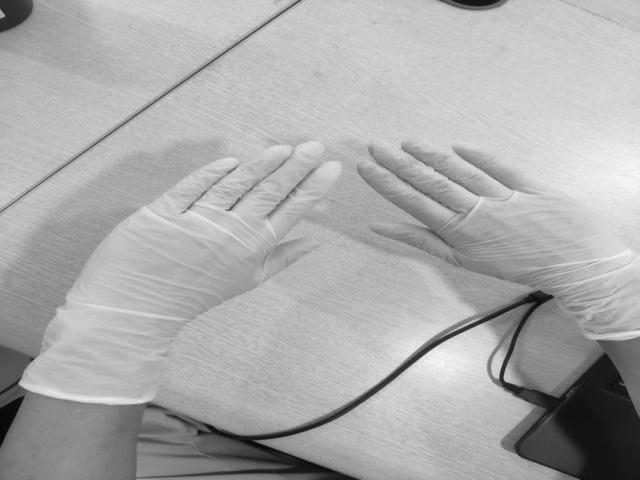gloved: (75, 134, 342, 342), (356, 132, 634, 304)
